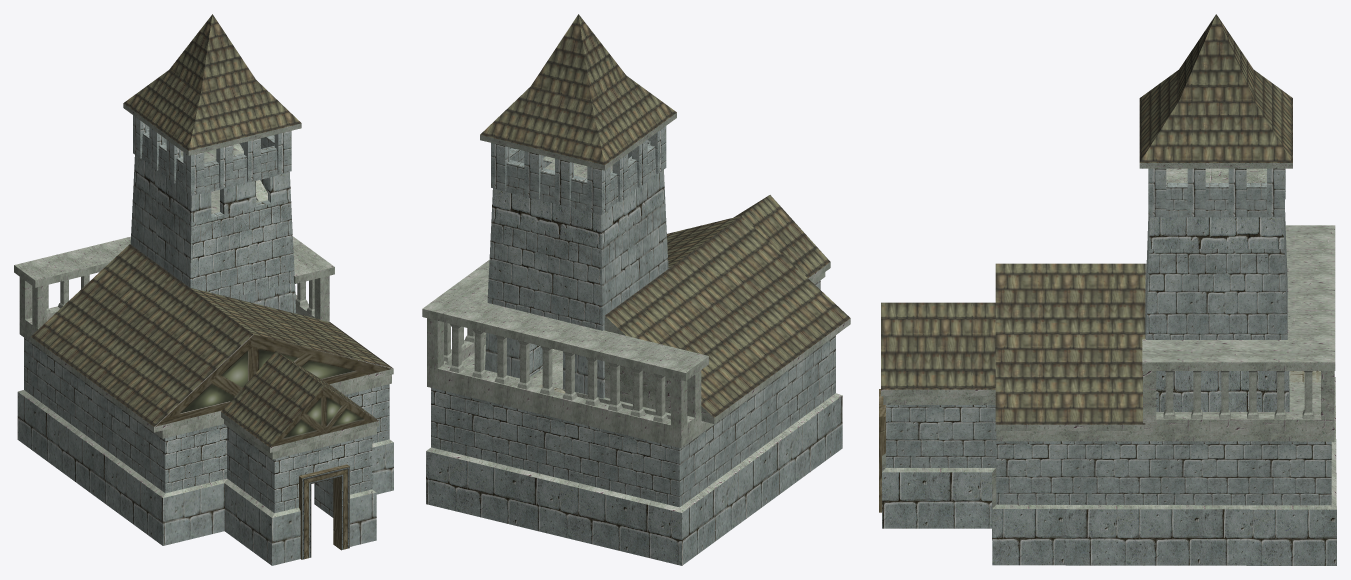
File: tower_D.FBX
The picture shows the model from 3 angles, left to right: view 1: azimuth 30°, elevation 25°; view 2: azimuth 150°, elevation 25°; view 3: azimuth 270°, elevation 25°; orthographic projection. The views are drawn at different scales.
Visible parts, largest first — view 1: tower_D, tower_D_walls, tower_D_tower, tower_D_sealing, tower_D_verand, tower_D_door; view 2: tower_D, tower_D_walls, tower_D_tower, tower_D_sealing, tower_D_verand; view 3: tower_D_walls, tower_D, tower_D_tower, tower_D_verand, tower_D_sealing, tower_D_door.
Boxes of the visible parts, x1,y1,x2,y2 form: tower_D: (30,14,393,452); tower_D_walls: (17,338,393,565); tower_D_tower: (130,115,296,313); tower_D_sealing: (19,275,391,459); tower_D_verand: (14,236,334,287); tower_D_door: (299,464,349,559); tower_D: (444,14,850,423); tower_D_walls: (426,280,842,565); tower_D_tower: (485,126,668,398); tower_D_sealing: (427,272,836,448); tower_D_verand: (422,260,708,381); tower_D_walls: (882,377,1336,565); tower_D: (881,14,1320,430); tower_D_tower: (1145,168,1289,411); tower_D_verand: (1142,225,1335,370); tower_D_sealing: (883,371,1334,441); tower_D_door: (879,389,885,512).
Size of the model in its own units: 16.13 by 27.08 by 22.37.
Materials: 6 (6 with a texture image).
